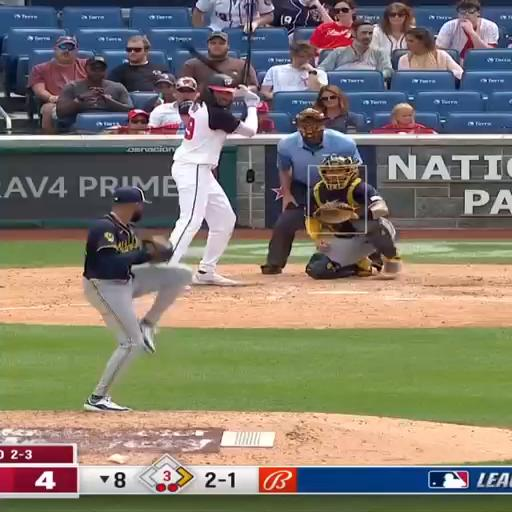bat: (182, 44, 240, 86)
